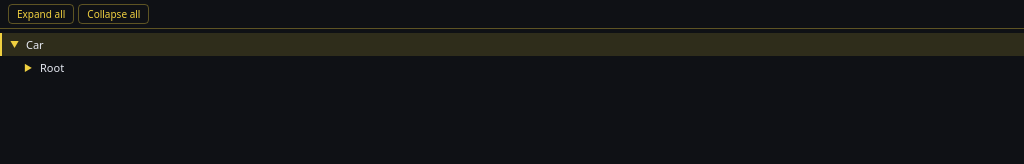
Test case: PipeNavTree stage runtime › resolves the entity stage runtime once per render, not once per tree row
Click the text "Root": (52, 68) [40,60,64,75]
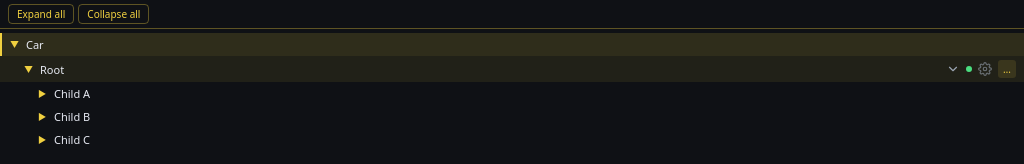
Expected: the text "Child A" is shown, [54,86,90,101]
Expected: the text "Child B" is shown, [54,109,90,124]
Expected: the text "Child C" is shown, [54,132,90,147]
